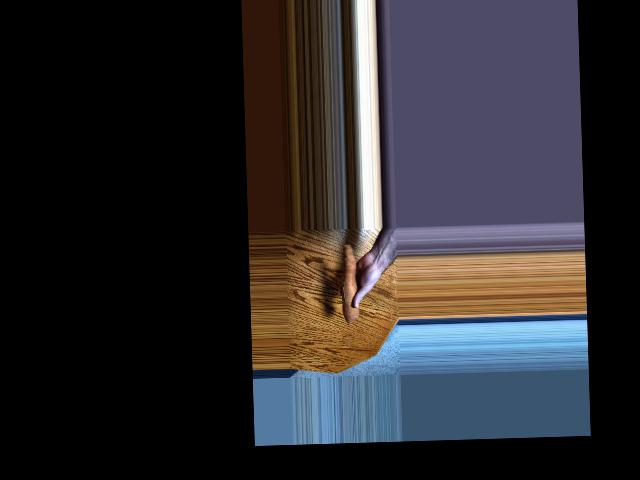sweet_potato: (338, 243, 362, 319)
